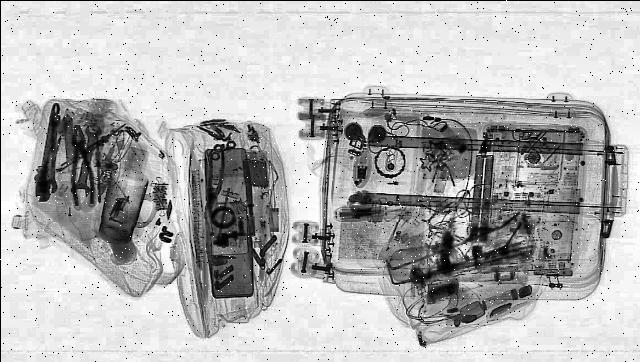Pliers: (64, 124, 94, 208)
Wrench: (69, 124, 101, 198), (39, 104, 65, 193)
